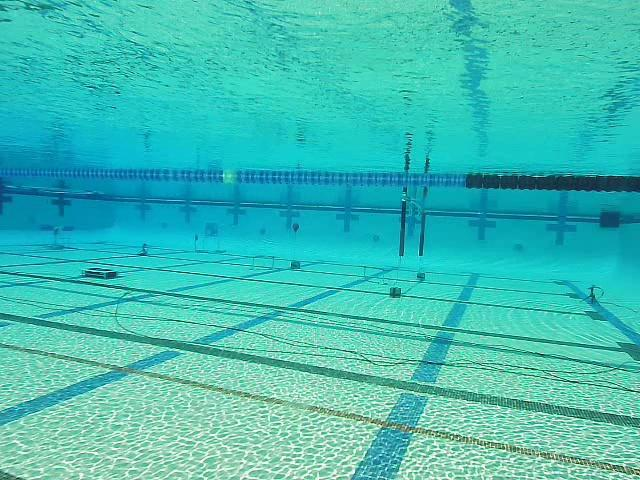dropper: (82, 264, 118, 280)
gate_leg_l: (398, 185, 408, 256)
gate_leg_r: (418, 215, 426, 257)
torpedo: (202, 220, 220, 238)
